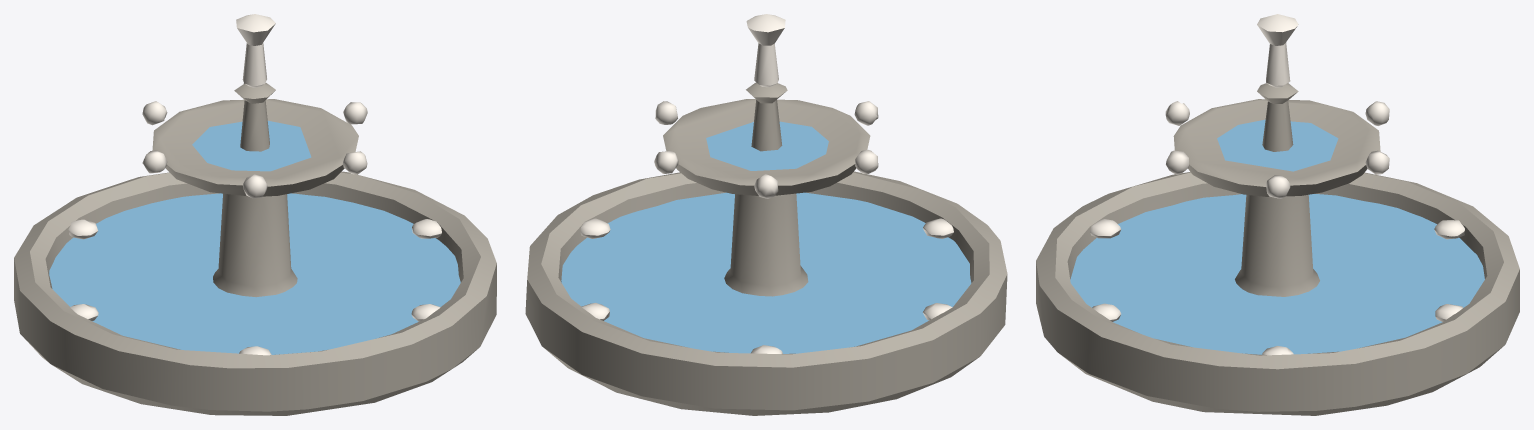
File: fountain.glb
The picture shows the model from 3 angles, left to right: view 1: azimuth 30°, elevation 25°; view 2: azimuth 150°, elevation 25°; view 3: azimuth 270°, elevation 25°; orthographic projection.
Visible parts, largest first — view 1: fountain.004, water.004; view 2: fountain.004, water.004; view 3: fountain.004, water.004.
Boxes of the visible parts, x1=… form: fountain.004: x1=14, y1=83, x2=496, y2=415; water.004: x1=68, y1=14, x2=441, y2=355; fountain.004: x1=525, y1=82, x2=1007, y2=415; water.004: x1=580, y1=14, x2=953, y2=353; fountain.004: x1=1036, y1=83, x2=1519, y2=415; water.004: x1=1090, y1=14, x2=1464, y2=355.
Bounding box in the file's own units: 4.6 × 3.2 × 4.6.
Materials: 1 (1 with a texture image).
